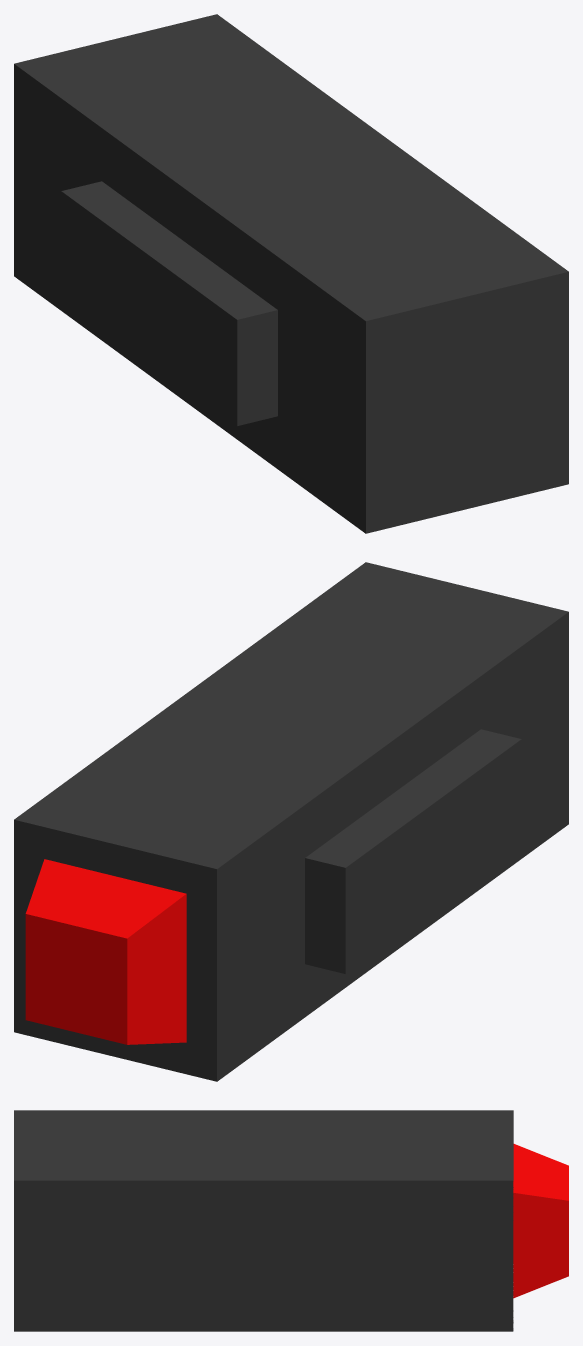
Rendered from laser_module1.gltf.
3 views of the same model, one above another, from view 1: azimuth 30°, elevation 25°; view 2: azimuth 150°, elevation 25°; view 3: azimuth 270°, elevation 25° (orthographic). The views are drawn at different scales.
Visible parts, largest first — view 1: mesh; view 2: mesh; view 3: mesh.
Part boxes in pixels (left/top/right/bottom): mesh: left=14, top=14, right=568, bottom=533; mesh: left=14, top=562, right=568, bottom=1081; mesh: left=14, top=1110, right=568, bottom=1331.
Bounding box in the file's own units: 0.225 × 0.1875 × 0.625.
Materials: 1 (1 with a texture image).
